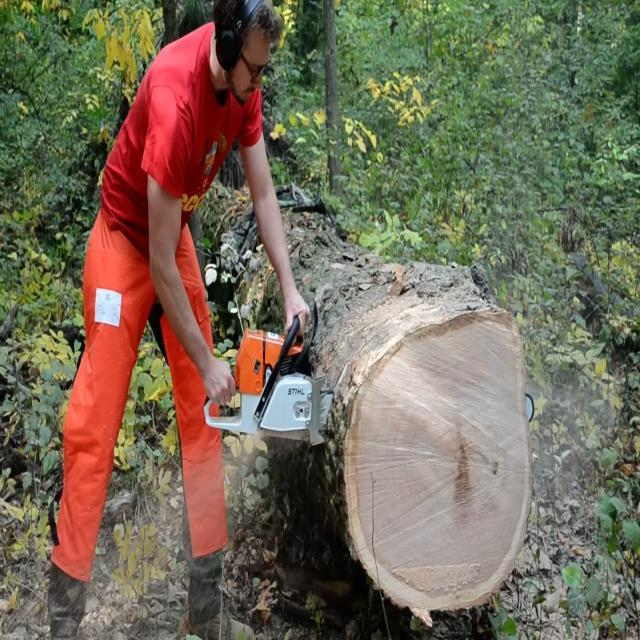Chainsaw: (194, 311, 548, 468)
